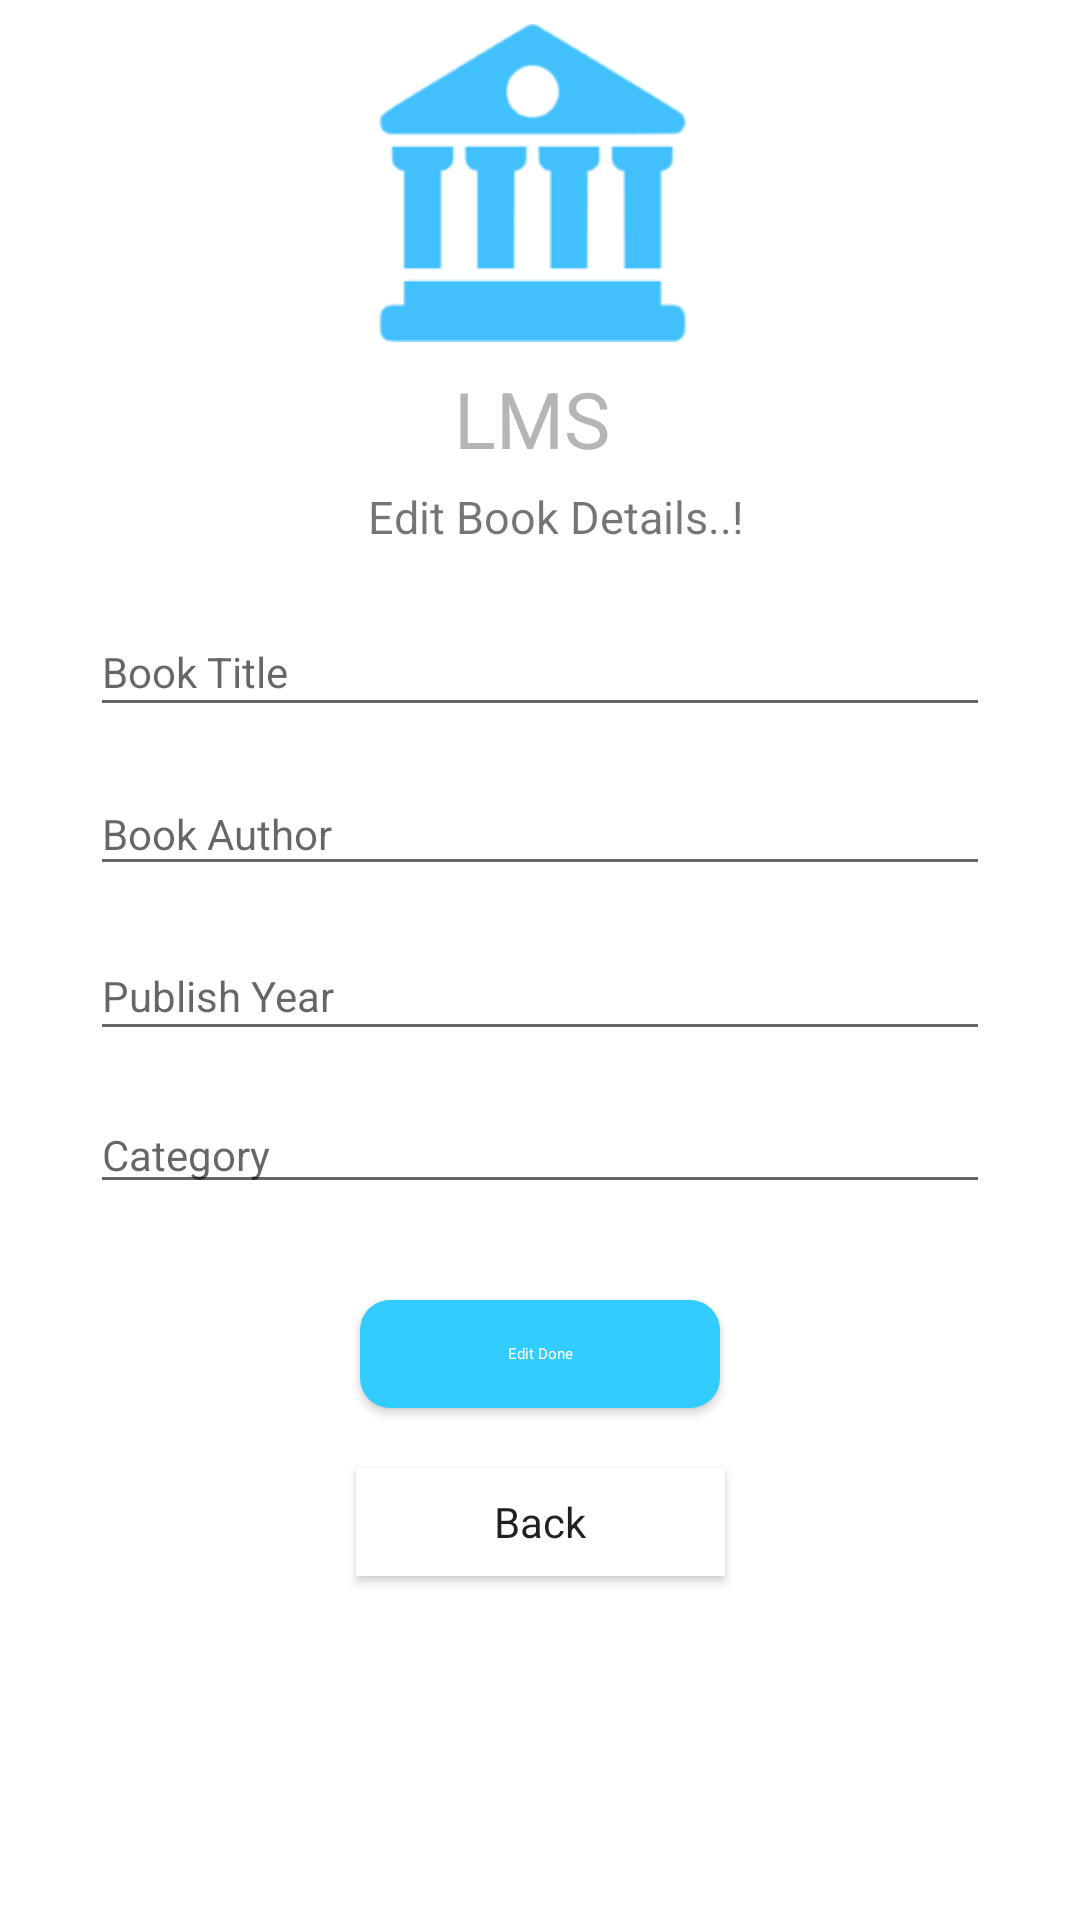

Screen size 1080×1920. Icon name, then its center in pixels as (x=x, y=y):
appicon: (x=532, y=183)
